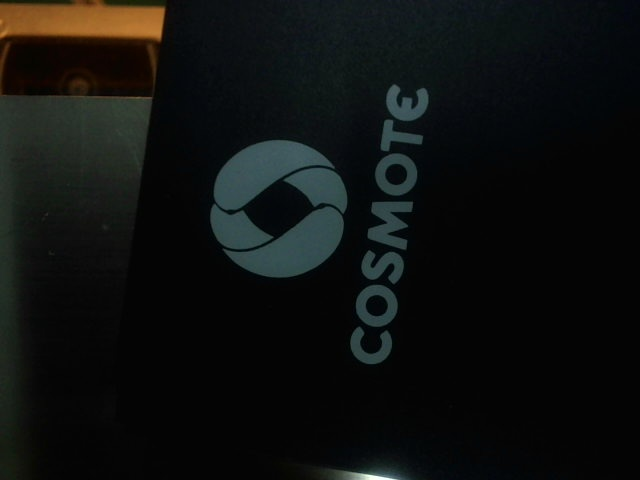AU_COSMOTE: (202, 60, 430, 388)
